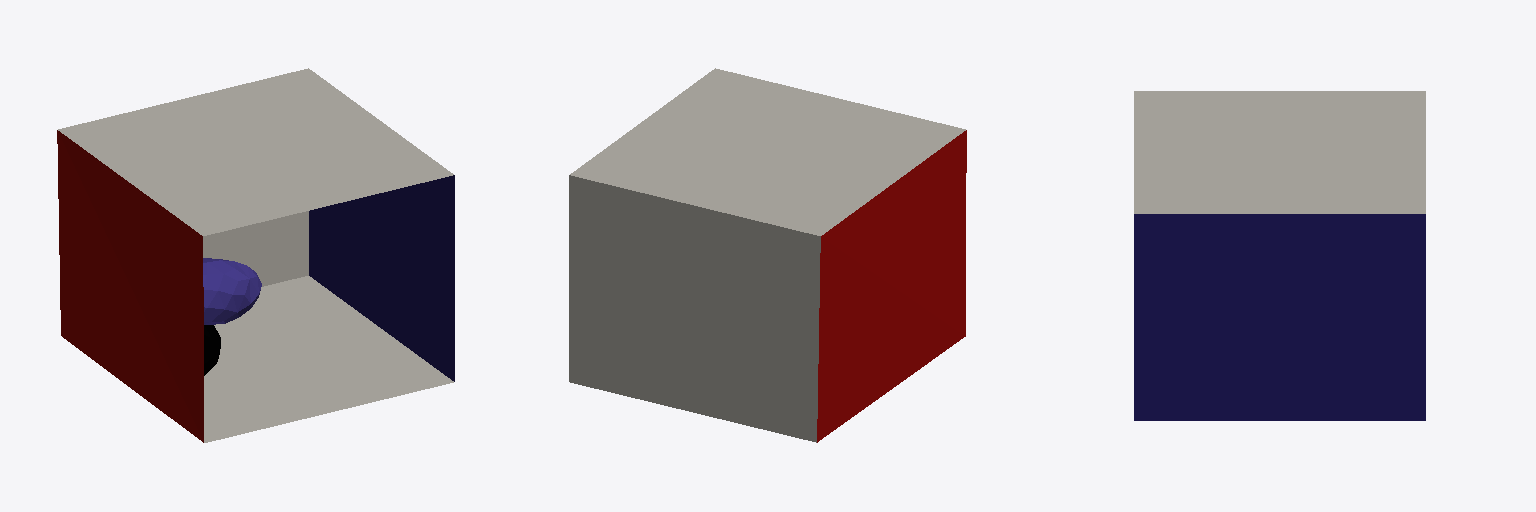
Rendered from CornellBox-Ellipsoid-123.obj.
3 views of the same model, side by side, from view 1: azimuth 30°, elevation 25°; view 2: azimuth 150°, elevation 25°; view 3: azimuth 270°, elevation 25° (orthographic).
Visible parts, largest first — view 1: ceiling, leftWall, floor, rightWall, backWall, leftSphere, rightSphere; view 2: backWall, ceiling, leftWall; view 3: rightWall, ceiling.
Boxes of the visible parts, x1=… form: ceiling: x1=58, y1=68, x2=453, y2=235; leftWall: x1=57, y1=130, x2=203, y2=442; floor: x1=204, y1=276, x2=453, y2=442; rightWall: x1=309, y1=175, x2=454, y2=381; backWall: x1=203, y1=211, x2=308, y2=286; leftSphere: x1=203, y1=258, x2=261, y2=324; rightSphere: x1=204, y1=325, x2=220, y2=375; backWall: x1=569, y1=175, x2=820, y2=442; ceiling: x1=570, y1=68, x2=965, y2=235; leftWall: x1=817, y1=130, x2=966, y2=442; rightWall: x1=1134, y1=214, x2=1425, y2=420; ceiling: x1=1134, y1=91, x2=1425, y2=213.
Size of the model in its own units: 2.02 by 1.59 by 2.03.